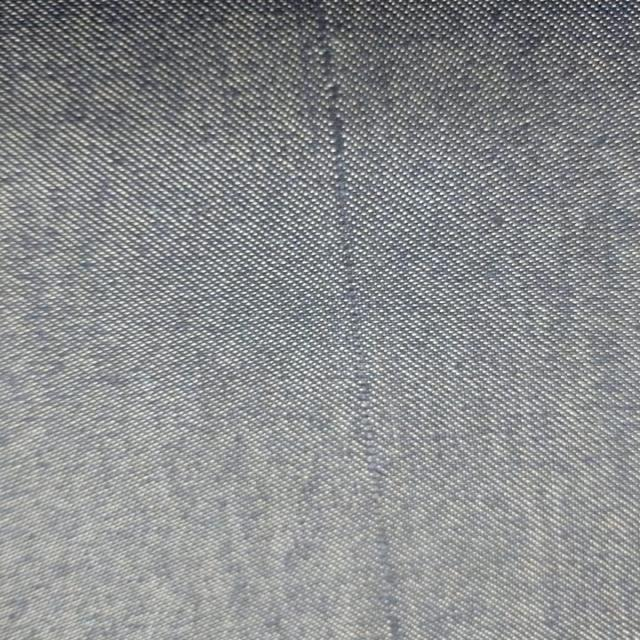Line: (307, 0, 418, 640)
